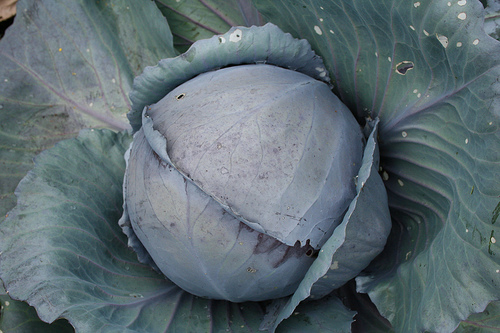cabbage: (114, 19, 394, 331)
